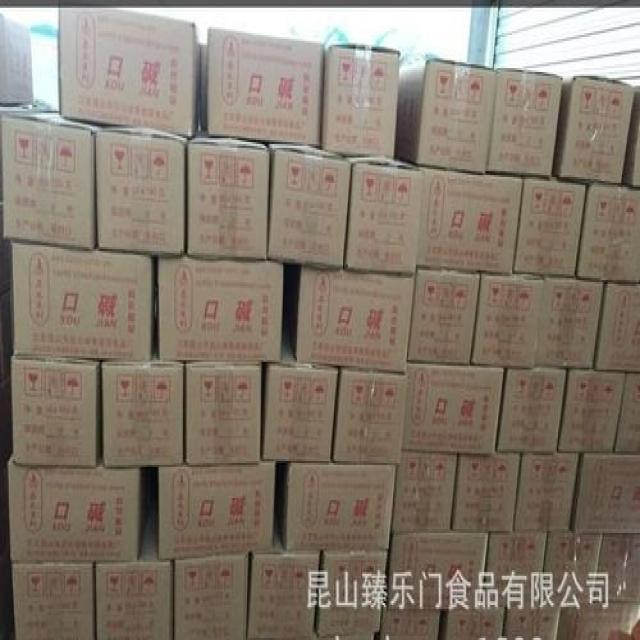box: (59, 6, 201, 139), (11, 241, 156, 365), (8, 449, 158, 561), (284, 262, 418, 372), (2, 102, 101, 249), (156, 254, 284, 364), (208, 30, 326, 147), (415, 163, 524, 278), (95, 122, 187, 256), (158, 460, 277, 557), (397, 59, 498, 171), (261, 320, 341, 460), (186, 127, 271, 258), (275, 460, 395, 550), (266, 142, 351, 268), (12, 348, 103, 465), (98, 504, 176, 635), (342, 148, 422, 274), (405, 360, 507, 454), (552, 75, 635, 188), (101, 360, 183, 471), (246, 520, 321, 636), (324, 44, 399, 159), (488, 66, 564, 178), (388, 530, 491, 609), (409, 263, 482, 368), (512, 174, 587, 276), (330, 367, 407, 463), (186, 366, 262, 462), (171, 552, 251, 638), (576, 177, 639, 284), (13, 560, 100, 637), (535, 277, 604, 372), (472, 274, 541, 366), (316, 550, 388, 638), (497, 370, 570, 453), (390, 447, 461, 531), (451, 453, 522, 534), (571, 450, 639, 533), (561, 371, 627, 450), (482, 532, 549, 608), (515, 453, 581, 530), (539, 534, 603, 608), (593, 280, 639, 373), (591, 530, 639, 602), (0, 12, 36, 107), (556, 601, 639, 638), (442, 607, 509, 638), (377, 608, 443, 638), (504, 605, 563, 638), (615, 372, 639, 453), (623, 84, 639, 189), (0, 200, 13, 298), (1, 375, 13, 469), (0, 293, 13, 379), (197, 45, 206, 129)
